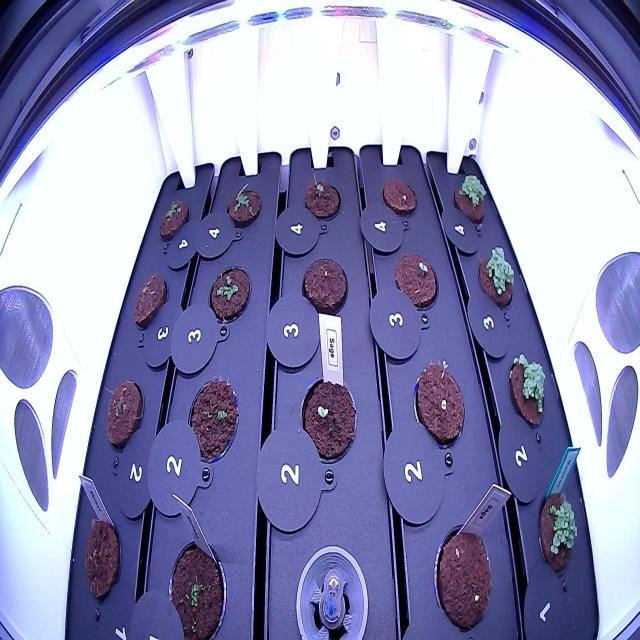germination: (160, 527, 228, 639), (296, 363, 360, 470), (411, 345, 467, 456), (183, 371, 242, 470), (532, 481, 582, 582), (502, 346, 550, 439), (102, 374, 146, 460), (473, 241, 522, 318), (390, 247, 440, 316), (206, 258, 254, 328), (132, 266, 170, 345), (450, 166, 492, 233), (301, 175, 344, 229), (156, 190, 192, 252), (223, 182, 264, 235)
pod: (428, 512, 496, 636), (77, 513, 125, 605), (298, 251, 349, 317), (376, 171, 419, 218)
